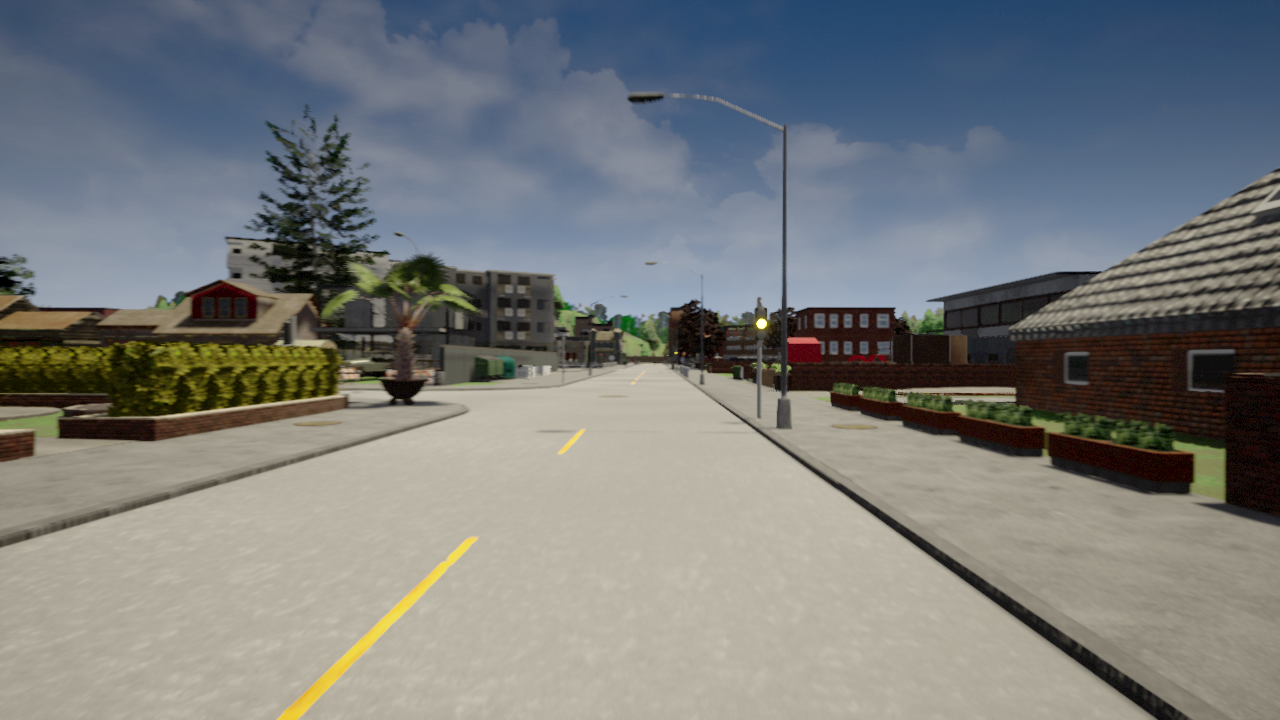yellow: (752, 305, 767, 341)
